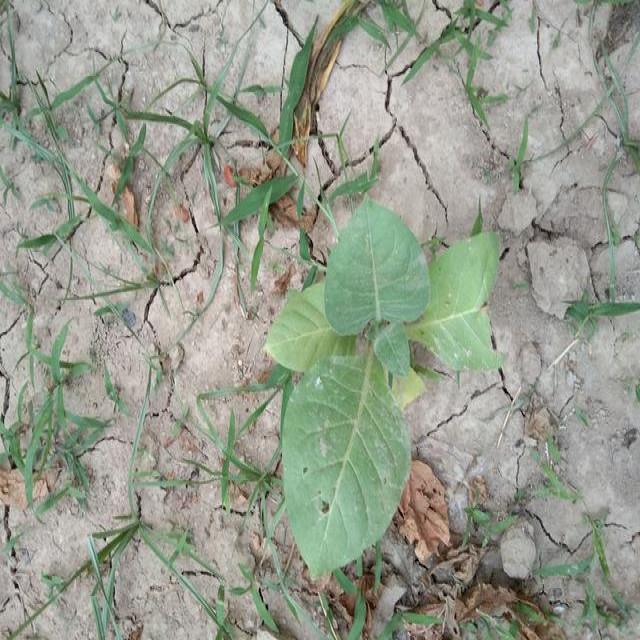crop: (265, 203, 496, 574)
